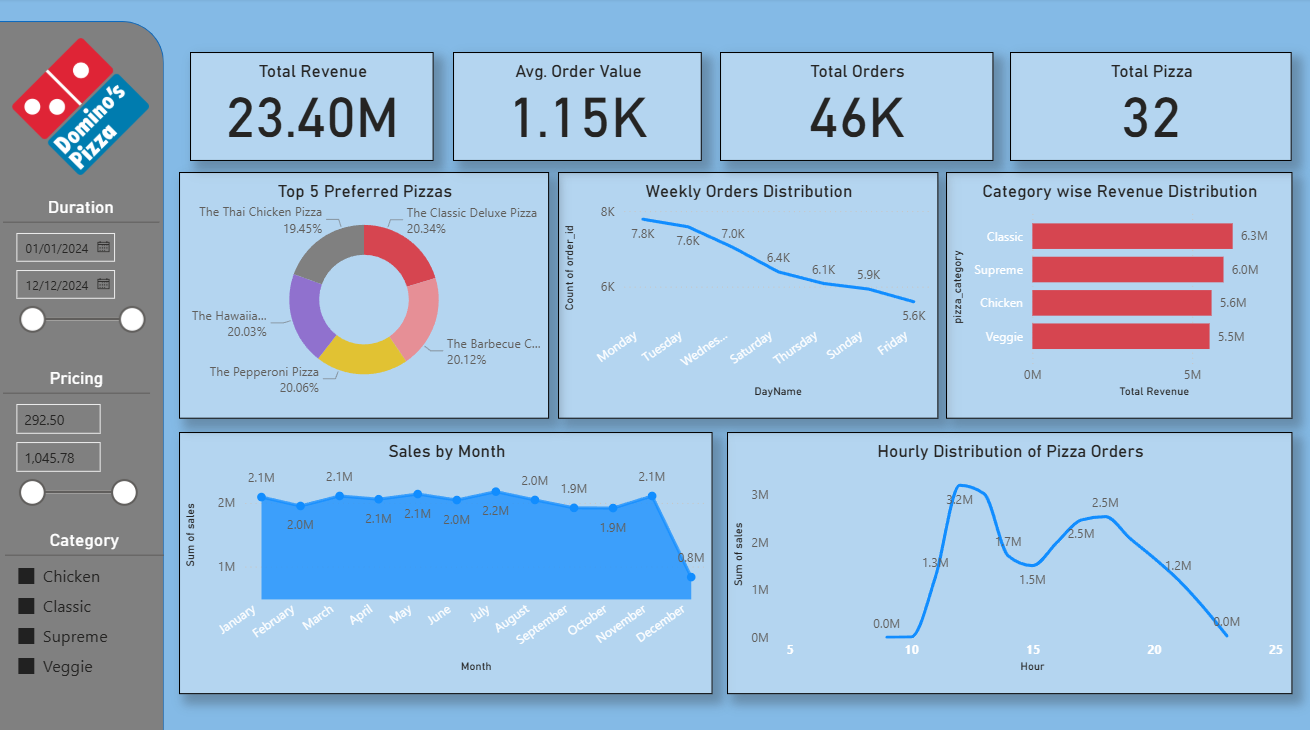

This screenshot's page, from the dashboard's own definition file:
{"tool":"powerbi","page":{"name":"Page 1","canvas":[1280,720],"ordinal":0},"visuals":[{"type":"shape","box":[0,22.4,162.4,696.4],"z":0},{"type":"card","title":"Total Revenue","fields":{"Values":["dominos.Total Revenue"]},"box":[207.2,52.5,217.9,106],"z":1000},{"type":"areaChart","title":"Sales by Month","fields":{"Category":["dominos.order_date.Variation.Date Hierarchy.Month"],"Y":["Sum(dominos.sales)"]},"box":[166.3,422.1,530.1,276.2],"z":2000},{"type":"lineChart","title":"Hourly Distribution of Pizza Orders","fields":{"Category":["dominos.Hour"],"Y":["Sum(dominos.sales)"]},"box":[696.4,422.1,582.6,254.8],"z":3000},{"type":"lineChart","title":"Weekly Orders Distribution","fields":{"Category":["dominos.DayName"],"Y":["CountNonNull(dominos.order_id)"]},"box":[545.7,177,385.2,245.1],"z":4000},{"type":"clusteredBarChart","title":"Category wise Revenue Distribution","fields":{"Category":["dominos.pizza_category"],"Y":["dominos.Total Revenue"]},"box":[930.8,177,336.5,245.1],"z":5000},{"type":"card","title":"Avg. Order Value","fields":{"Values":["dominos.Avg Order Value"]},"box":[457.1,52.5,227.6,106],"z":6000},{"type":"donutChart","title":"Top 5 Preferred Pizzas","fields":{"Category":["dominos.pizza_name"],"Y":["CountNonNull(dominos.quantity)"]},"box":[177,179.9,368.6,242.2],"z":7000},{"type":"image","box":[5.8,34,151.7,143],"z":8000},{"type":"card","title":"Total Orders","fields":{"Values":["dominos.Total Orders"]},"box":[710,52.5,246.1,106],"z":9000},{"type":"card","title":"Total Pizza","fields":{"Values":["dominos.Total Pizza Count"]},"box":[990.2,52.5,246.1,106],"z":10000},{"type":"slicer","title":"Duration","fields":{"Values":["dominos.order_date"]},"box":[5.8,193.6,151.7,193.6],"z":11000},{"type":"slicer","title":"Pricing","fields":{"Values":["dominos.price"]},"box":[5.8,359.9,143,148.8],"z":12000},{"type":"slicer","title":"Category","fields":{"Values":["dominos.pizza_category"]},"box":[7.8,517.4,154.7,169.2],"z":13000}]}

Visuals, with their boxes in screenshot pixels (x1, y1, x2, y2), scaled from the page's 1280x720 canvas onto the 1310x730 screenshot:
shape: x1=0 y1=23 x2=166 y2=729
"Total Revenue" card: x1=212 y1=53 x2=435 y2=161
"Sales by Month" areaChart: x1=170 y1=428 x2=713 y2=708
"Hourly Distribution of Pizza Orders" lineChart: x1=713 y1=428 x2=1309 y2=686
"Weekly Orders Distribution" lineChart: x1=558 y1=179 x2=953 y2=428
"Category wise Revenue Distribution" clusteredBarChart: x1=953 y1=179 x2=1297 y2=428
"Avg. Order Value" card: x1=468 y1=53 x2=701 y2=161
"Top 5 Preferred Pizzas" donutChart: x1=181 y1=182 x2=558 y2=428
image: x1=6 y1=34 x2=161 y2=179
"Total Orders" card: x1=727 y1=53 x2=979 y2=161
"Total Pizza" card: x1=1013 y1=53 x2=1265 y2=161
"Duration" slicer: x1=6 y1=196 x2=161 y2=393
"Pricing" slicer: x1=6 y1=365 x2=152 y2=516
"Category" slicer: x1=8 y1=525 x2=166 y2=696
